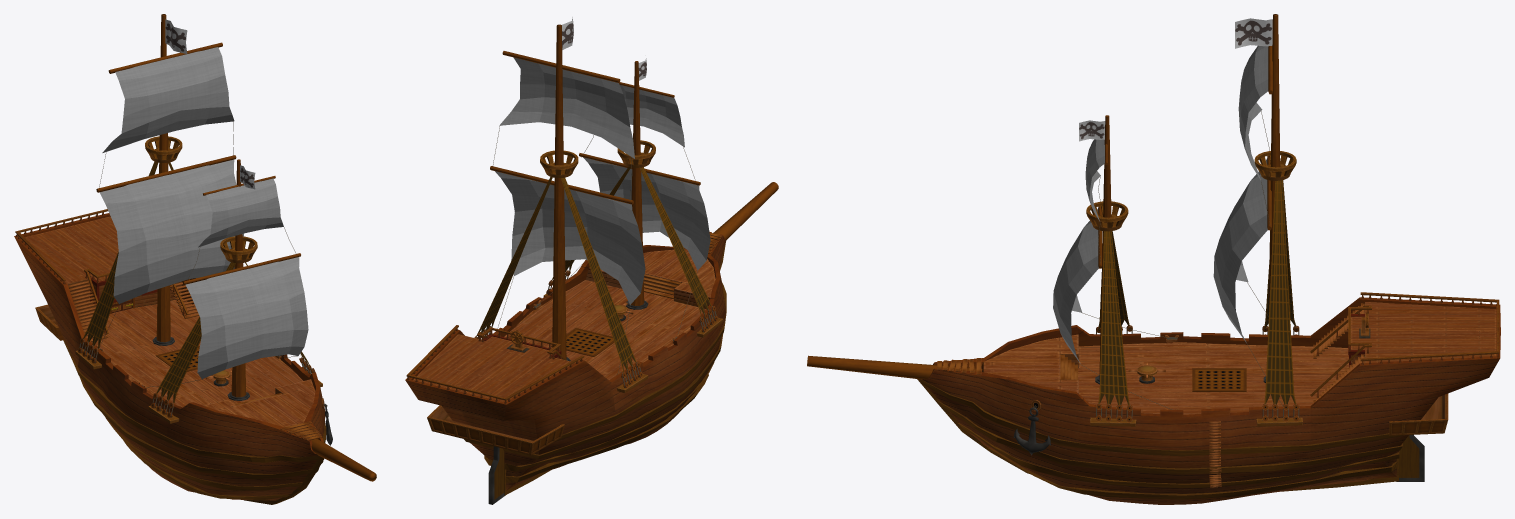
File: ship.fbx
3 views of the same model, side by side, from view 1: azimuth 30°, elevation 25°; view 2: azimuth 150°, elevation 25°; view 3: azimuth 270°, elevation 25° (orthographic). The views are drawn at different scales.
Visible parts, largest first — view 1: Ship_Hasira_back, Ship_Hasira_front, Ship_Dekoration, Ship_main_Damaged, Ship_main_front, Ship_main_Back, Ship_main_Right, Ship_net, Ship_main_Left; view 2: Ship_Hasira_back, Ship_Dekoration, Ship_main_Damaged, Ship_Hasira_front, Ship_main_Back, Ship_main_Right, Ship_net, Ship_main_front, Ship_main_Left; view 3: Ship_main_Damaged, Ship_Dekoration, Ship_main_front, Ship_main_Left, Ship_Hasira_back, Ship_main_Back, Ship_net, Ship_Hasira_front, Ship_main_Right.
Boxes of the visible parts, left/top/right/bottom form: Ship_Hasira_back: left=96, top=14, right=244, bottom=347; Ship_Hasira_front: left=146, top=159, right=308, bottom=387; Ship_Dekoration: left=15, top=209, right=376, bottom=504; Ship_main_Damaged: left=14, top=214, right=325, bottom=500; Ship_main_front: left=167, top=371, right=325, bottom=500; Ship_main_Back: left=14, top=213, right=199, bottom=365; Ship_main_Right: left=78, top=329, right=231, bottom=434; Ship_net: left=79, top=161, right=315, bottom=417; Ship_main_Left: left=147, top=316, right=305, bottom=392; Ship_Hasira_back: left=490, top=17, right=645, bottom=372; Ship_Dekoration: left=406, top=182, right=778, bottom=504; Ship_main_Damaged: left=405, top=242, right=725, bottom=490; Ship_Hasira_front: left=537, top=58, right=710, bottom=334; Ship_main_Back: left=405, top=330, right=615, bottom=490; Ship_main_Right: left=566, top=308, right=708, bottom=410; Ship_net: left=474, top=167, right=716, bottom=387; Ship_main_front: left=566, top=231, right=725, bottom=345; Ship_main_Left: left=493, top=281, right=630, bottom=355; Ship_main_Damaged: left=922, top=299, right=1499, bottom=504; Ship_Dekoration: left=807, top=292, right=1499, bottom=499; Ship_main_front: left=924, top=325, right=1109, bottom=486; Ship_main_Left: left=1109, top=380, right=1312, bottom=498; Ship_Hasira_back: left=1213, top=14, right=1296, bottom=405; Ship_main_Back: left=1310, top=297, right=1500, bottom=476; Ship_net: left=1096, top=180, right=1299, bottom=421; Ship_Hasira_front: left=1053, top=115, right=1172, bottom=409; Ship_main_Right: left=1122, top=332, right=1312, bottom=380.
Size of the model in its own units: 2521 by 6400 by 8410.
Materials: 5 (5 with a texture image).
